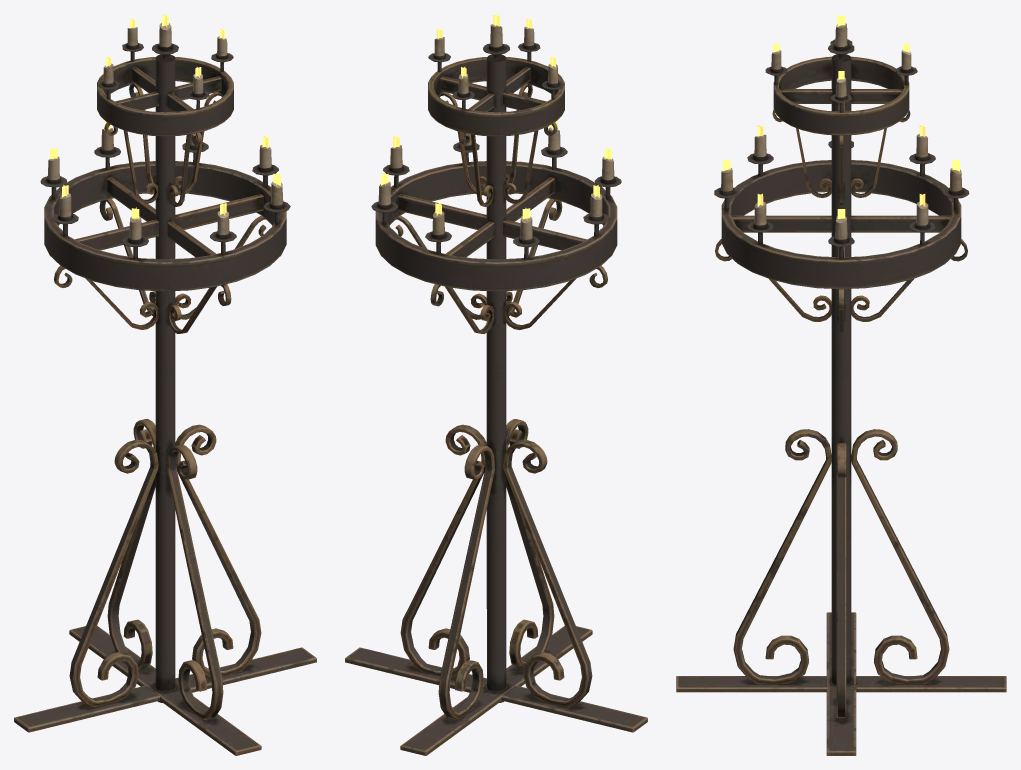
File: candelabra2.glb
The picture shows the model from 3 angles, left to right: view 1: azimuth 30°, elevation 25°; view 2: azimuth 150°, elevation 25°; view 3: azimuth 270°, elevation 25°; orthographic projection.
Visible parts, largest first — view 1: polySurface76 (×2); view 2: polySurface76 (×2); view 3: polySurface76 (×2).
Part boxes in pixels (x1=…): polySurface76 (×2): x1=14, y1=14, x2=316, y2=755; polySurface76 (×2): x1=345, y1=14, x2=647, y2=755; polySurface76 (×2): x1=676, y1=15, x2=1006, y2=755.
Bounding box in the file's own units: 0.8841 × 2 × 0.8841.
2 materials, 1 textured.
